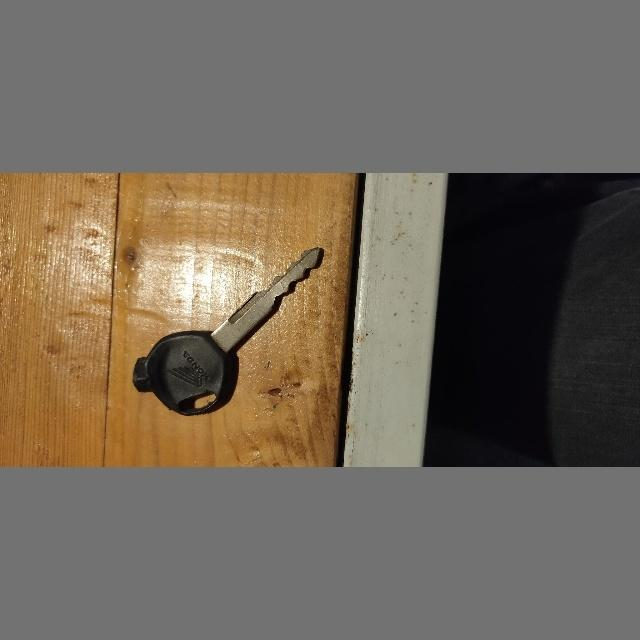Keys: (131, 243, 325, 419)
